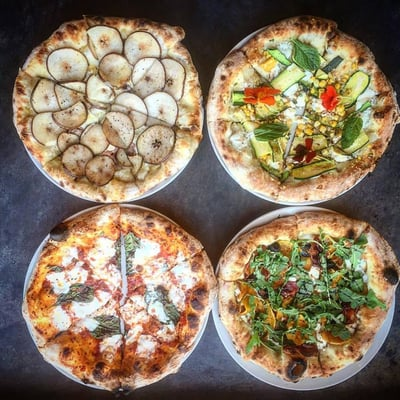sushi: (12, 14, 205, 205)
